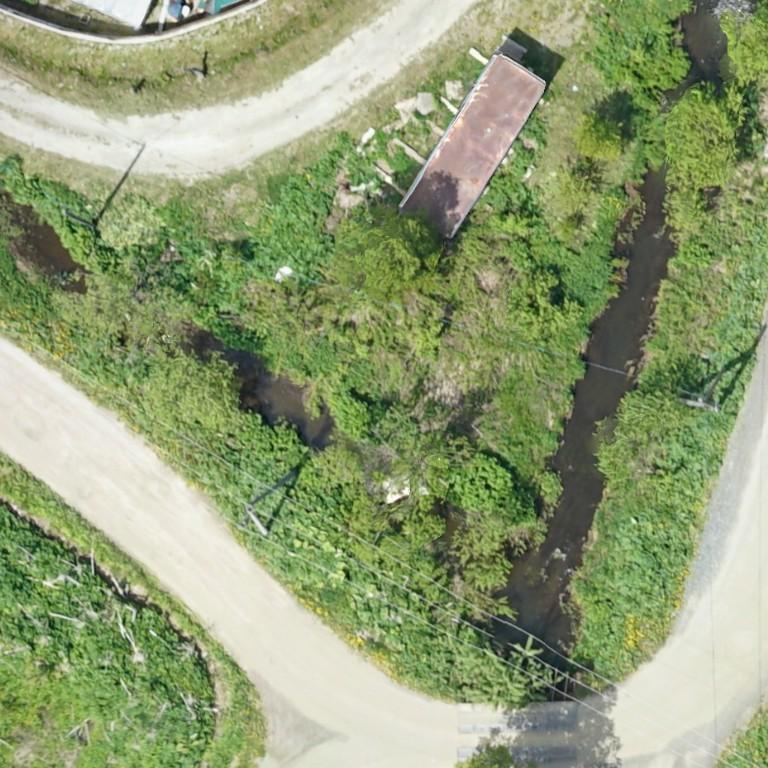hogweed: (0, 501, 212, 767), (582, 511, 688, 674), (249, 153, 340, 277), (669, 421, 719, 507)
